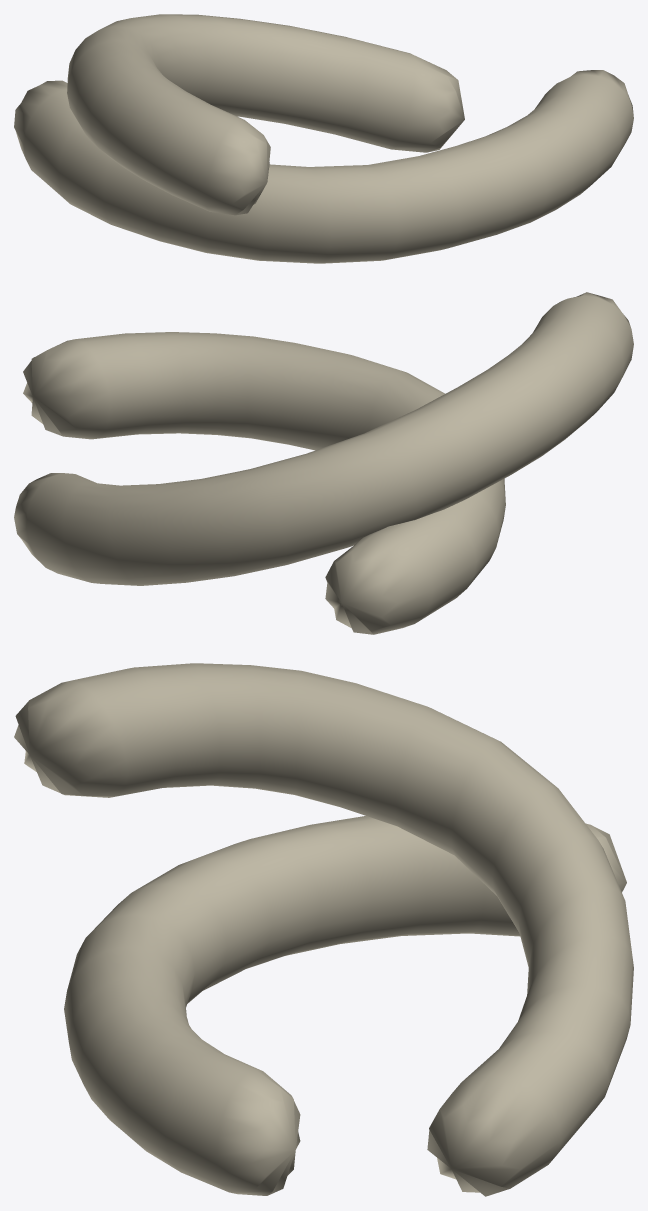
File: dualBones.fbx
3 views of the same model, one above another, from view 1: azimuth 30°, elevation 25°; view 2: azimuth 150°, elevation 25°; view 3: azimuth 270°, elevation 25° (orthographic). The views are drawn at different scales.
Parts seen in each view (by area): view 1: polySurface1; view 2: polySurface1; view 3: polySurface1.
Part boxes in pixels (x1,y1,x2,y2): polySurface1: (14,14,633,263); polySurface1: (14,292,633,634); polySurface1: (14,663,633,1196).
Bounding box in the file's own units: 293 × 121 × 232.
